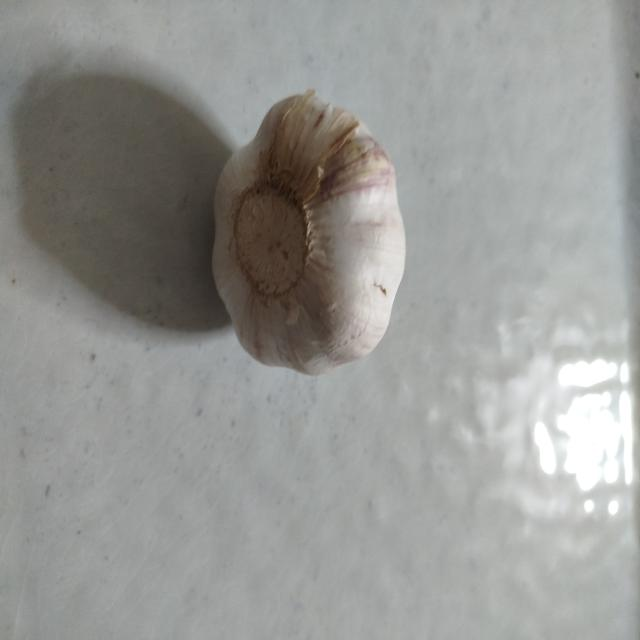garlic: (211, 88, 406, 376)
